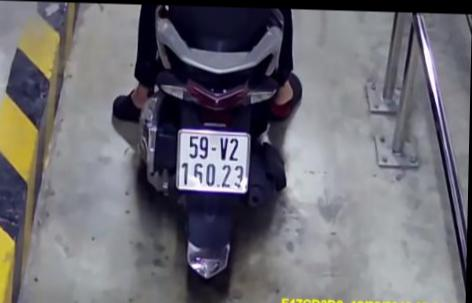LP: (175, 125, 255, 194)
